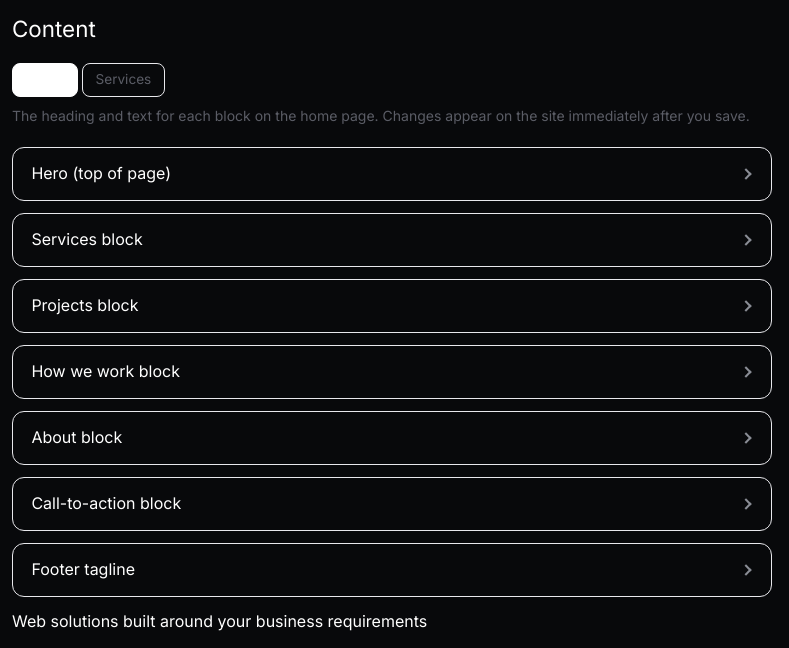
Test: ContentPage › has Home and Services tabs; Home is the default
The width and height of the screenshot is (789, 648).
Click the tab "Services": (123, 80) [82, 63, 165, 97]
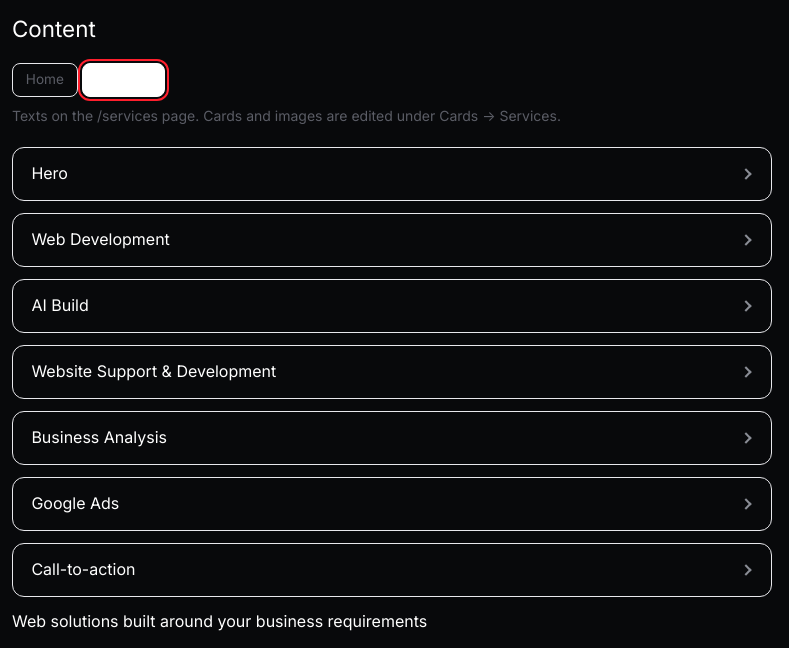
Result: the heading "Web Development" is shown at [31, 227, 170, 252]
Result: the heading "AI Build" is shown at [31, 293, 89, 318]
Result: the heading "Website Support & Development" is shown at [31, 359, 276, 384]
